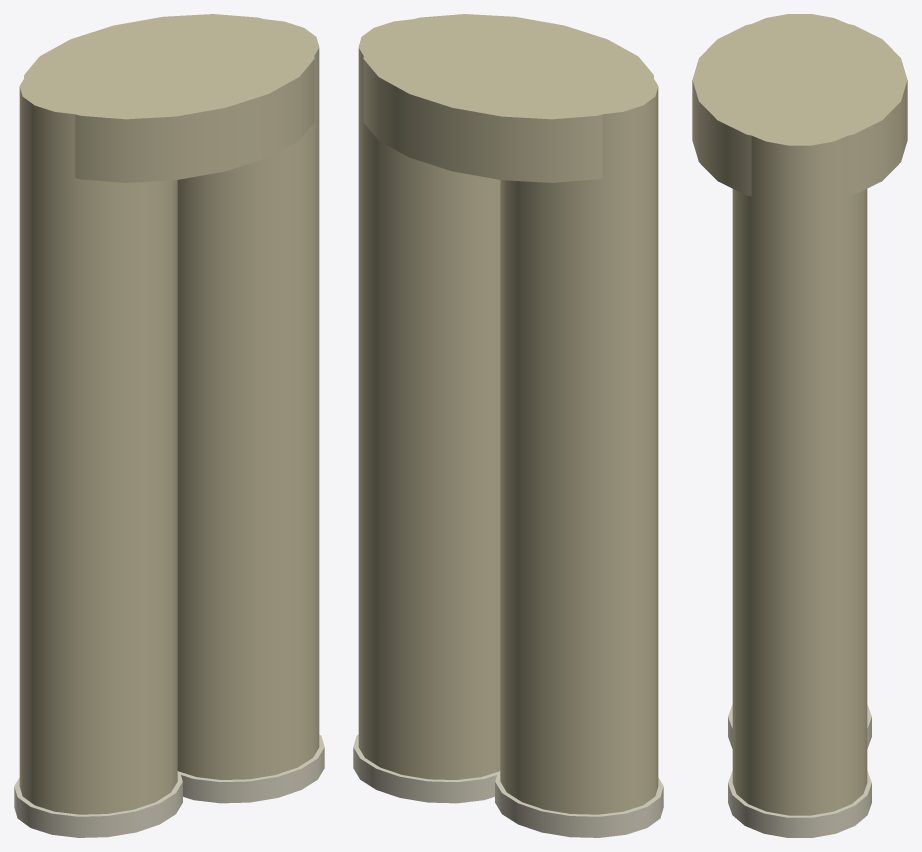
The model's file is VM-CAB-011.glb.
The picture shows the model from 3 angles, left to right: view 1: azimuth 30°, elevation 25°; view 2: azimuth 150°, elevation 25°; view 3: azimuth 270°, elevation 25°; orthographic projection. The views are drawn at different scales.
Visible parts, largest first — view 1: Pantalón Chino Khaki; view 2: Pantalón Chino Khaki; view 3: Pantalón Chino Khaki.
Boxes of the visible parts, box(x1,y1,x2,y2) form: Pantalón Chino Khaki: box(14, 14, 324, 837); Pantalón Chino Khaki: box(353, 14, 663, 837); Pantalón Chino Khaki: box(692, 14, 907, 837).
Size of the model in its own units: 0.4423 by 1.05 by 0.2958.
